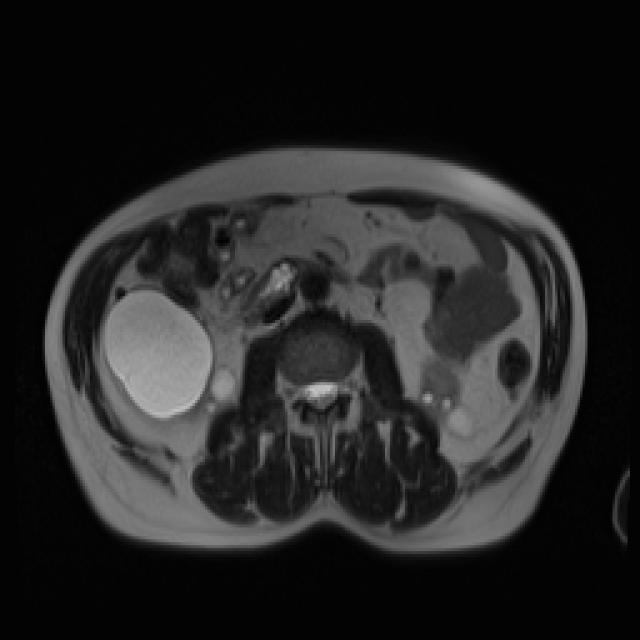sag: (104, 284, 236, 428)
sol: (416, 359, 479, 443)
